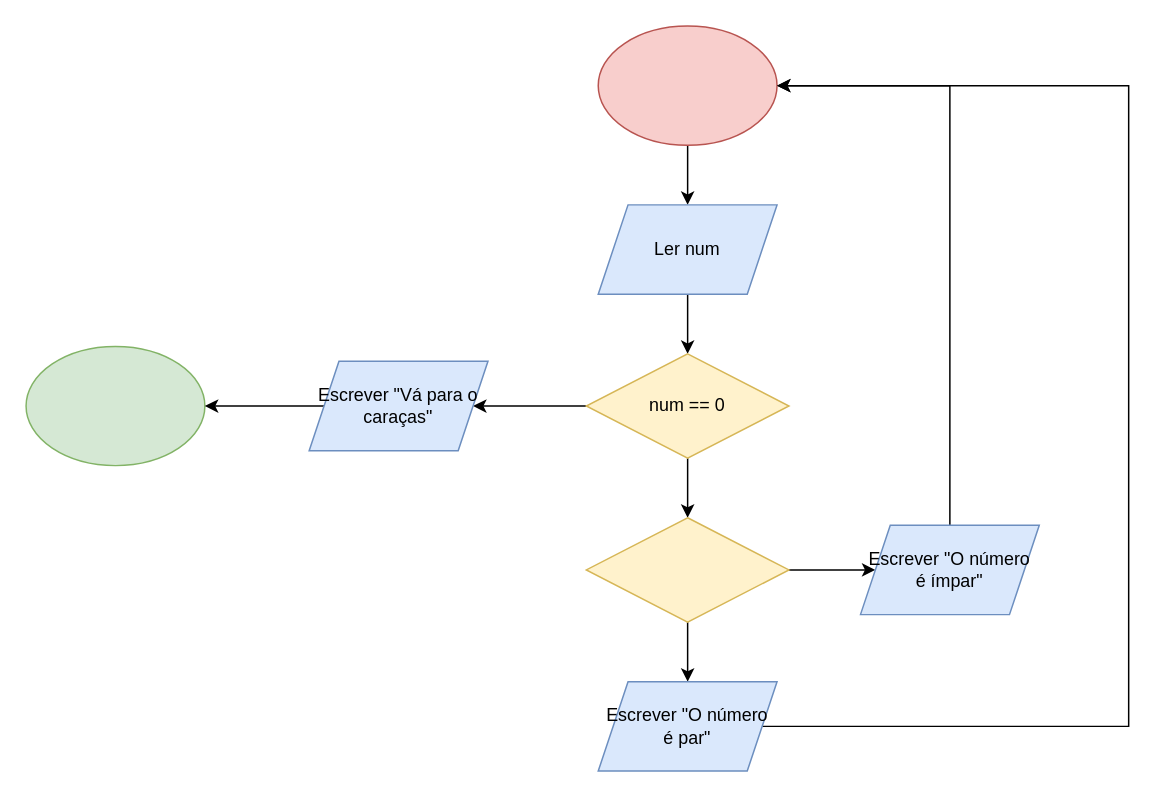
This 1167x797 diagram has some shape labels left out. Each missing label, with the box of its shape:
Fim: (25, 345, 205, 466)
Início: (597, 25, 777, 145)
num % 2 == 0: (585, 516, 789, 622)
